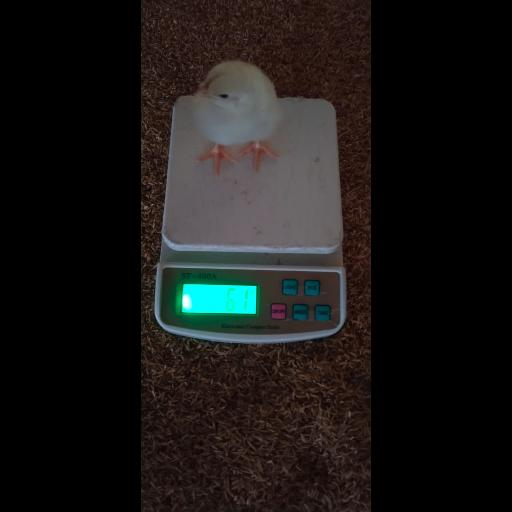chick: (191, 61, 280, 177)
